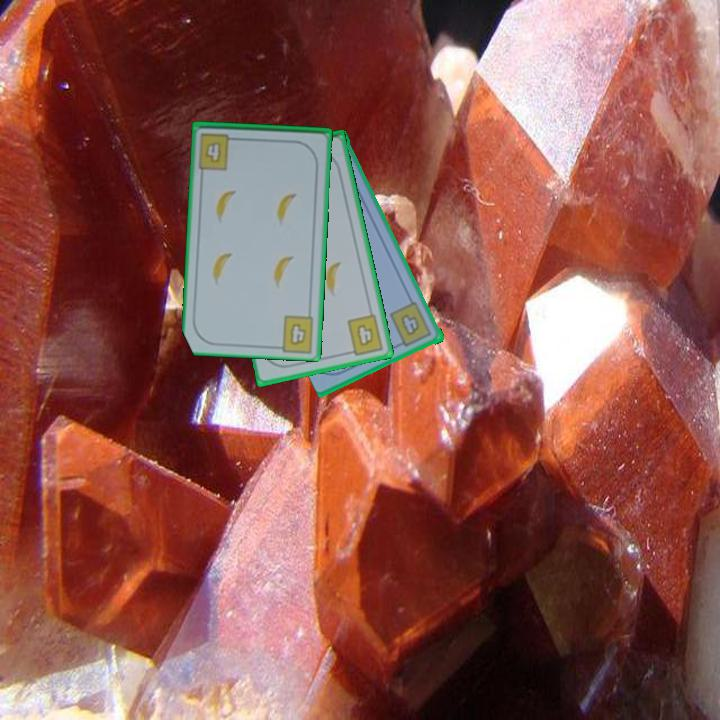4b: (386, 299, 435, 350), (343, 311, 387, 358), (195, 130, 241, 172), (287, 320, 309, 348)
